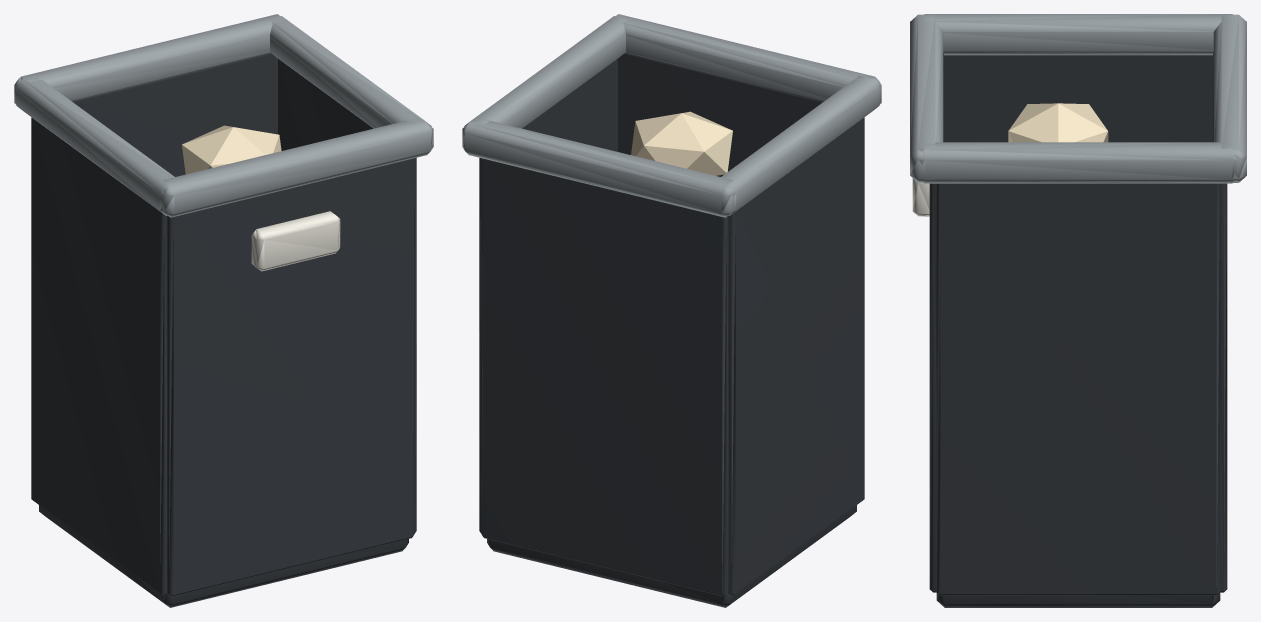
File: trash_bin.fbx
The picture shows the model from 3 angles, left to right: view 1: azimuth 30°, elevation 25°; view 2: azimuth 150°, elevation 25°; view 3: azimuth 270°, elevation 25°; orthographic projection. The views are drawn at different scales.
Visible parts, largest first — view 1: trash_bin; view 2: trash_bin; view 3: trash_bin.
Part boxes in pixels (<box>): trash_bin: <box>14,14,433,607</box>; trash_bin: <box>462,14,881,607</box>; trash_bin: <box>910,14,1246,607</box>.
Bounding box in the file's own units: 33.3 × 50.75 × 33.3.
